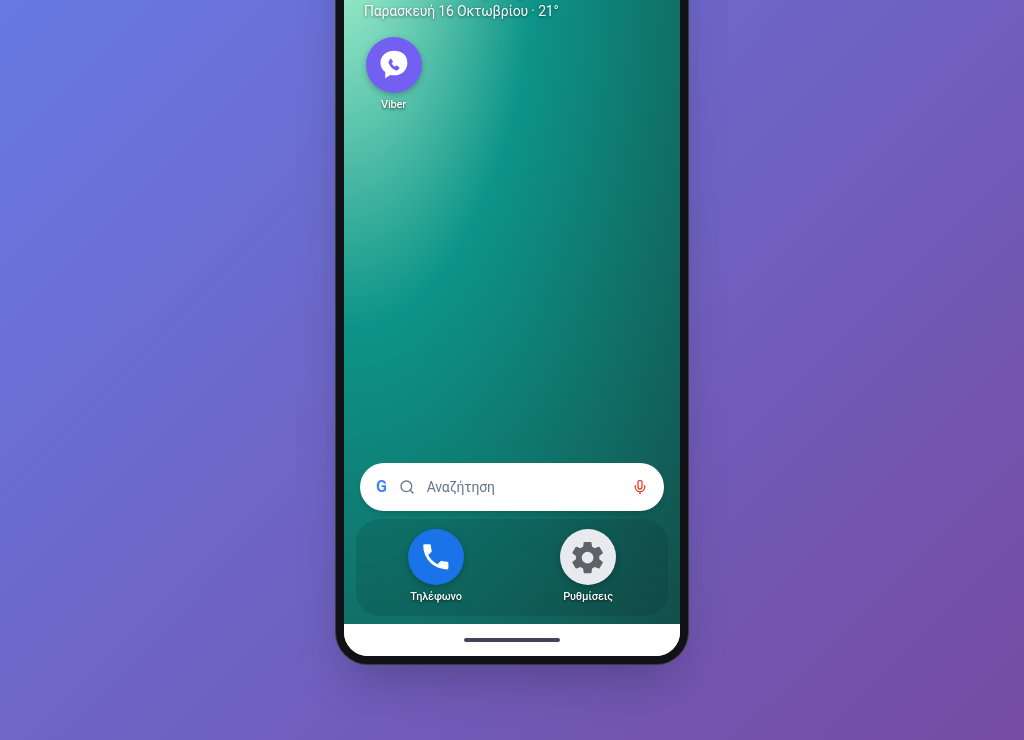
Test: MobileTapLesson › gives calm feedback on a wrong tap without completing
(page scrolled)
Click the button with aria-label "Άνοιγμα Τηλέφωνο".
click(436, 567)  # box [362,525,510,610]
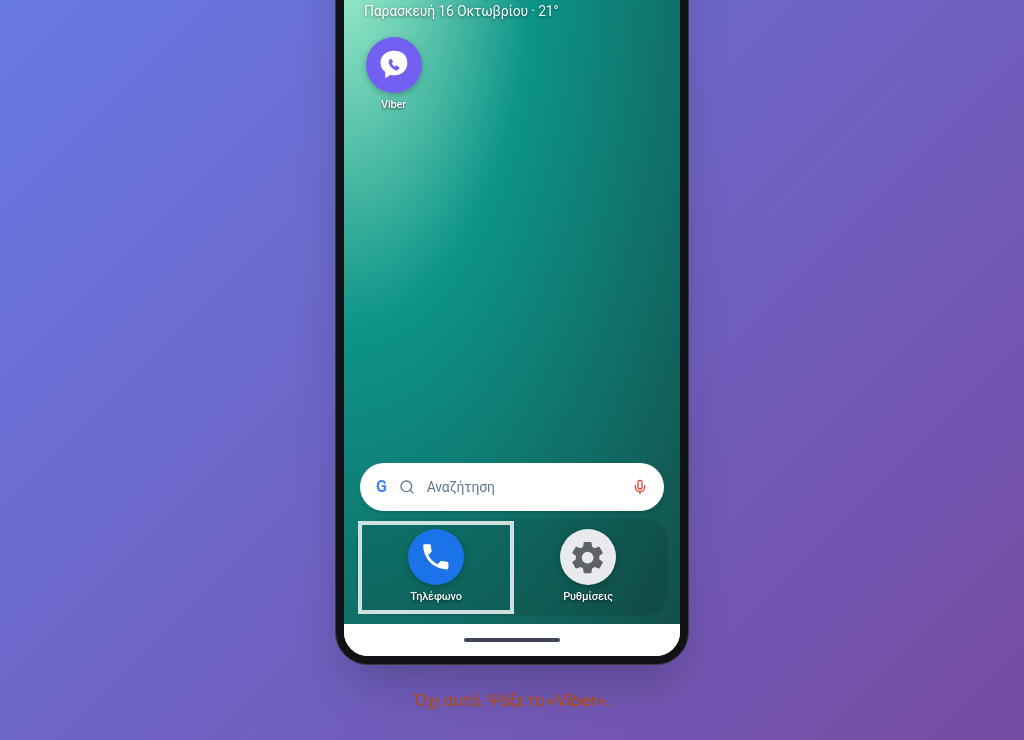
expect the text "Όχι αυτό. Ψάξε το «Viber»." is shown: met, box [414,688,610,716]
